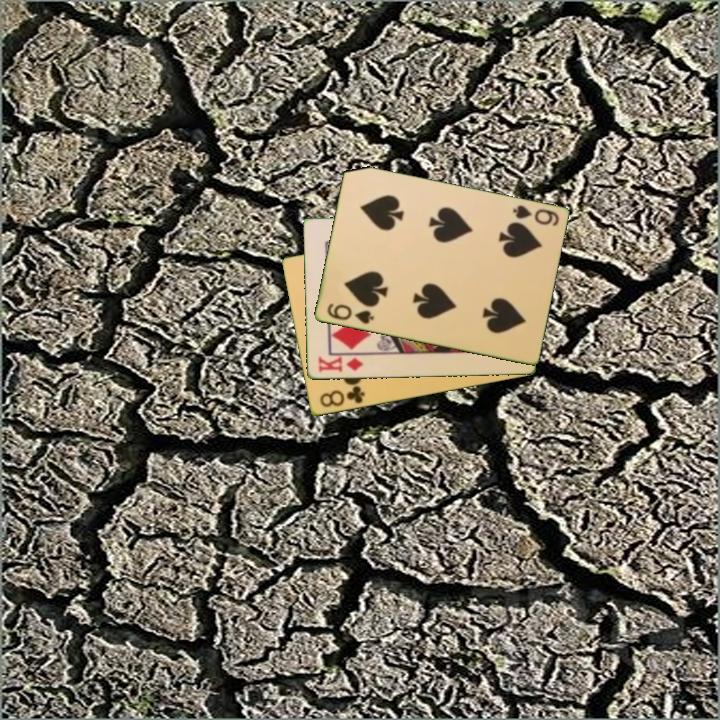6s: (323, 300, 377, 327), (509, 202, 562, 229)
8c: (316, 382, 368, 410)
Kd: (314, 353, 366, 375)
